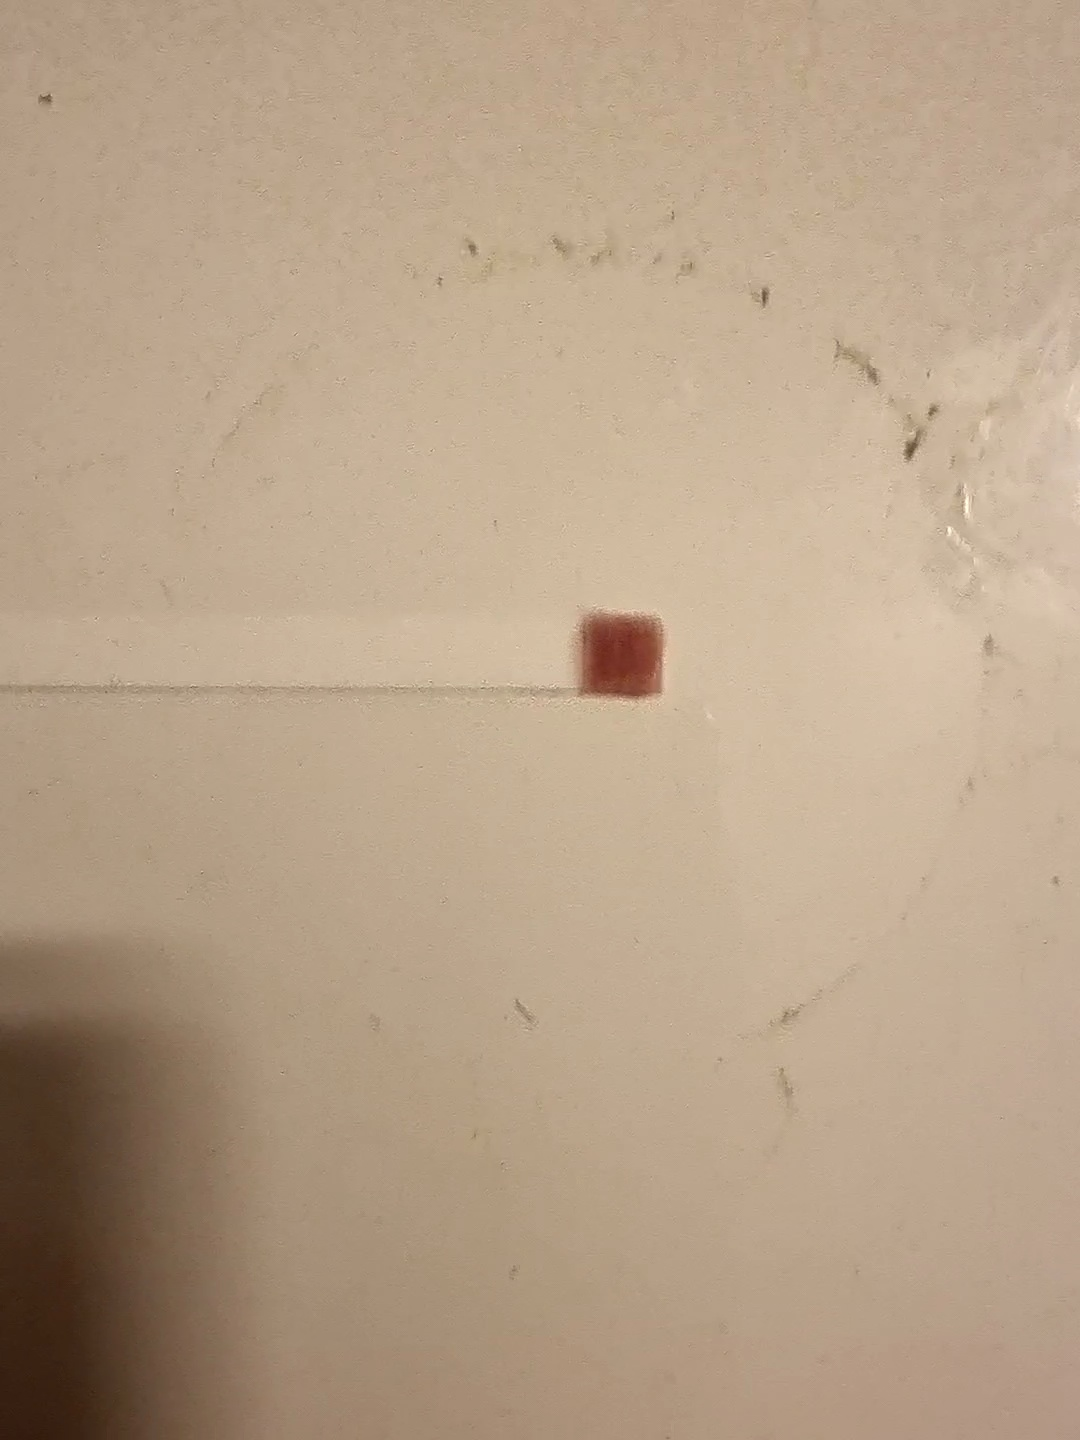keto-tip: (574, 602, 674, 711)
